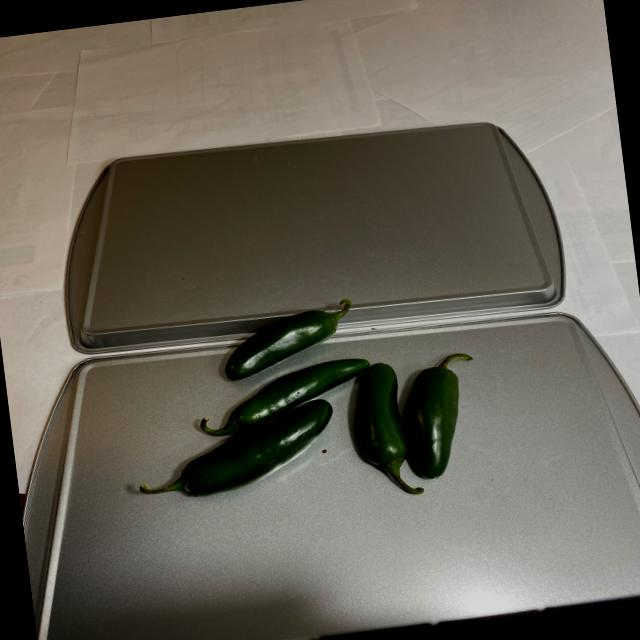chilli: (109, 274, 516, 532)
